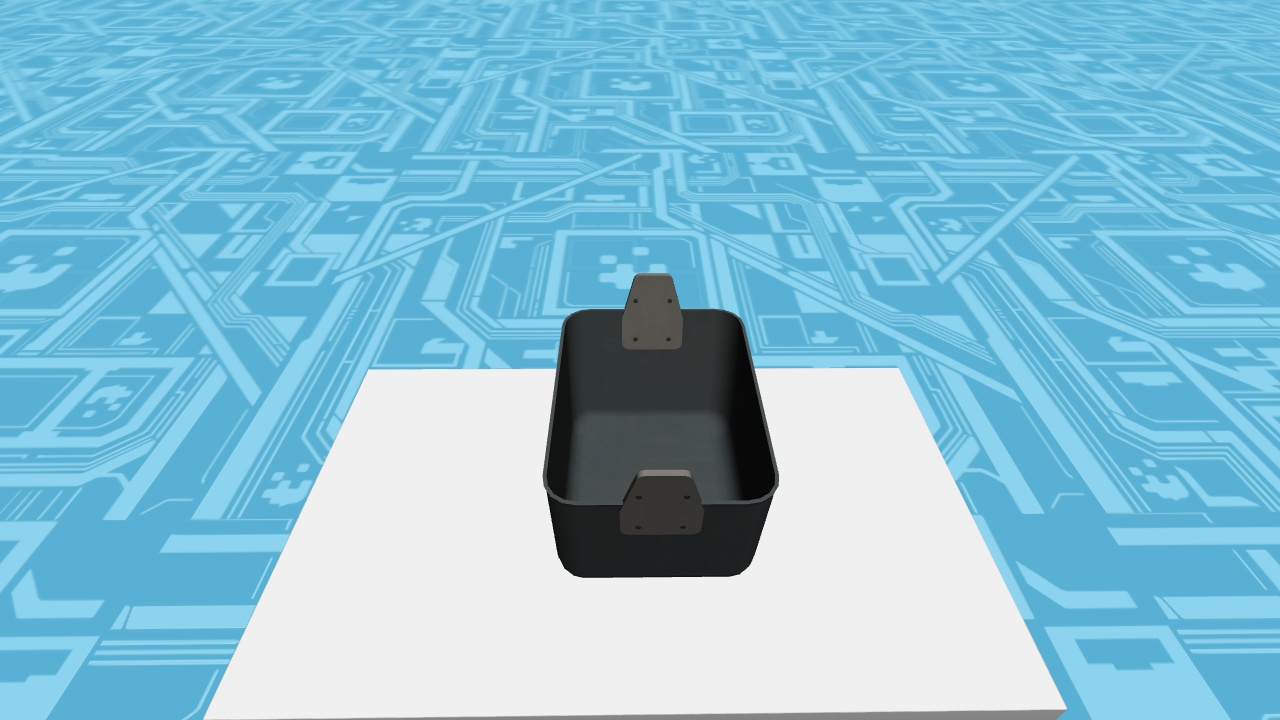bin: (543, 273, 778, 577)
